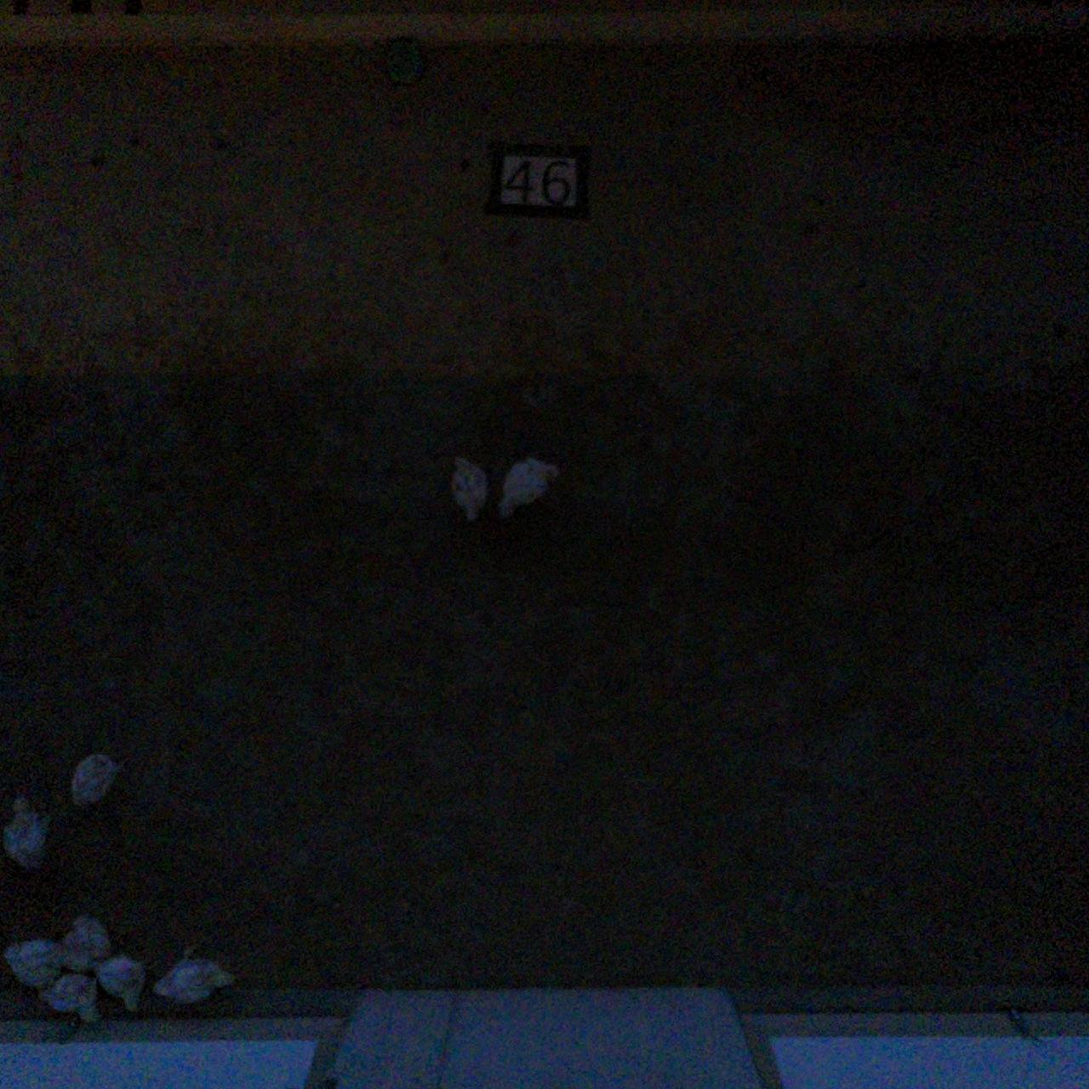chicken: (151, 933, 247, 1010), (496, 448, 566, 527), (0, 788, 58, 877), (62, 744, 134, 812), (53, 908, 119, 977), (90, 946, 152, 1019), (444, 450, 498, 530), (37, 965, 102, 1027), (0, 931, 65, 991)
